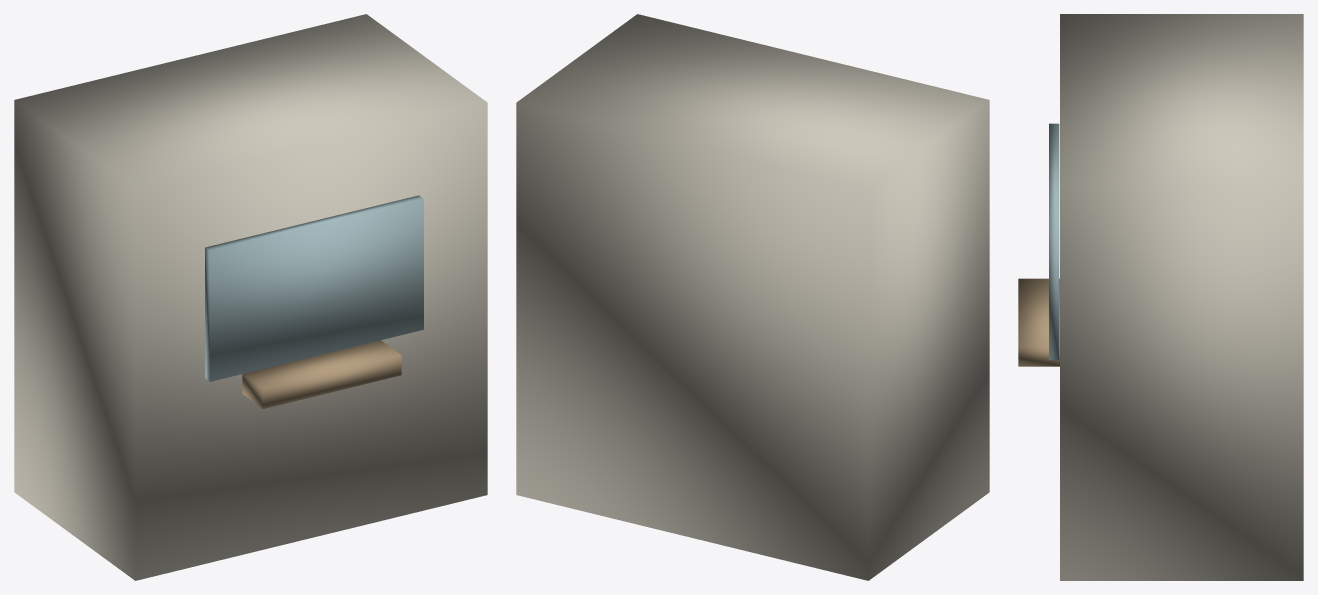
The model's file is ticket_booth__squat.glb.
The picture shows the model from 3 angles, left to right: view 1: azimuth 30°, elevation 25°; view 2: azimuth 150°, elevation 25°; view 3: azimuth 270°, elevation 25°; orthographic projection.
Parts seen in each view (by area): view 1: world; view 2: world; view 3: world.
Part boxes in pixels (box(x1,y1,x2,y2)): world: box(14, 14, 487, 580); world: box(516, 14, 989, 580); world: box(1018, 14, 1303, 580).
Size of the model in its own units: 1.54 by 1.64 by 1.07.
